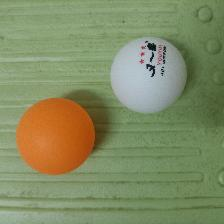WhiteBall: (110, 36, 187, 114)
YellowBall: (16, 97, 96, 175)
